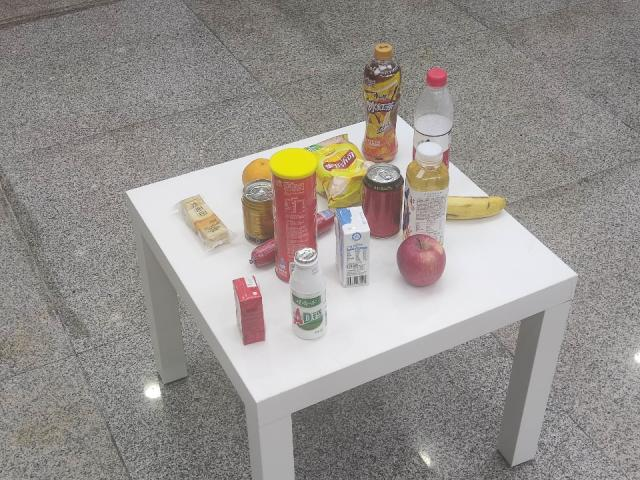Canned_drinks: (362, 162, 403, 238), (239, 178, 278, 246)
bottle: (410, 59, 459, 177)
cylinder: (267, 146, 318, 284)
drink_box: (226, 271, 273, 348), (334, 202, 375, 289)
